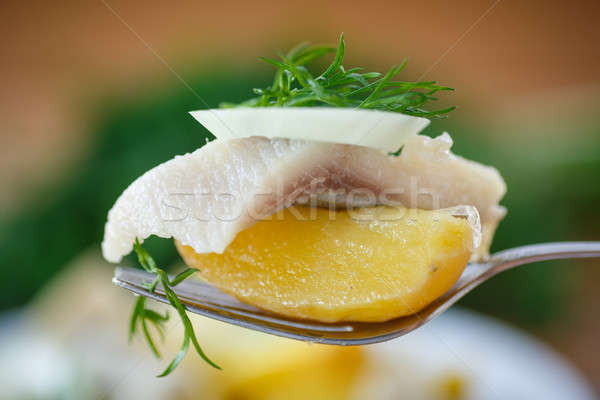boiled potatoes: (241, 197, 474, 308)
